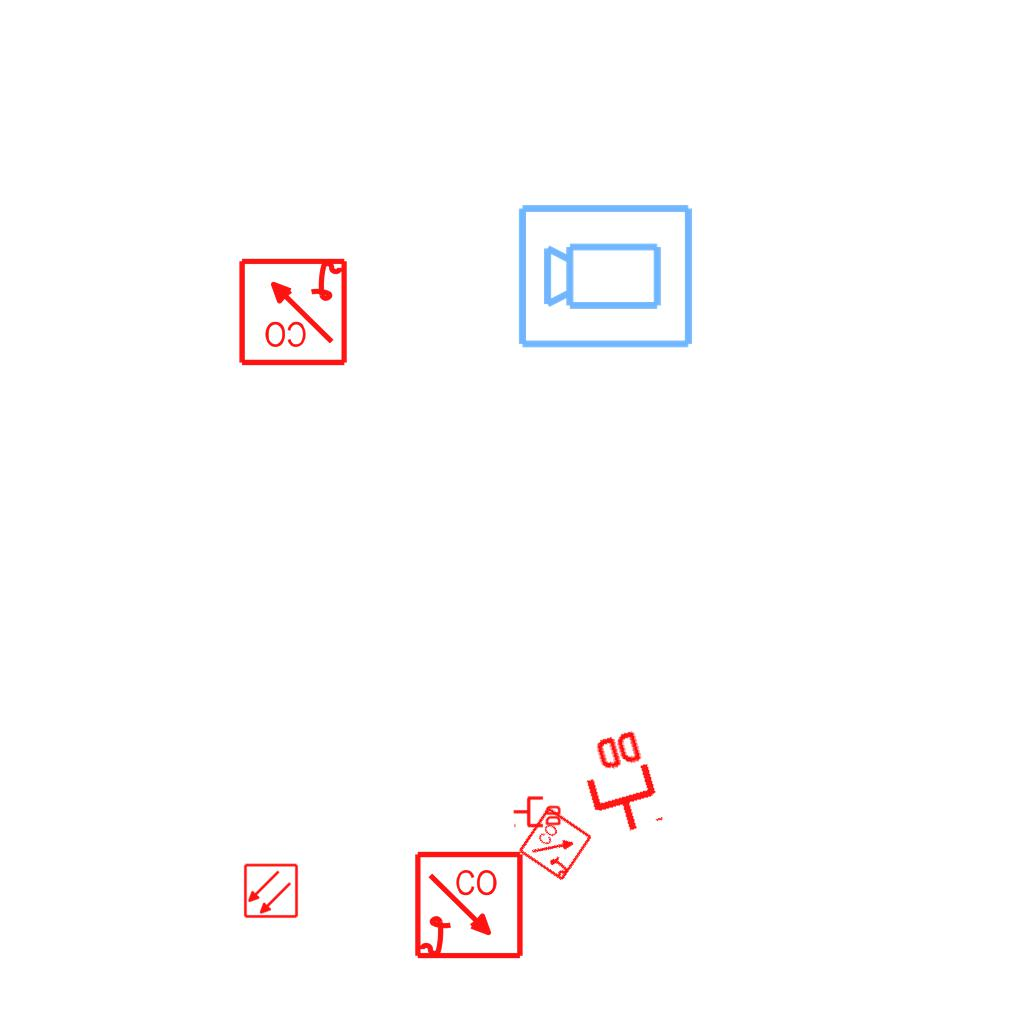Datenanschluss_zweifach: (571, 724, 666, 843), (512, 794, 563, 828)
KFO_Kamera_mit_Festobjektiv: (515, 198, 697, 352)
RMO_Rauchmelder_optischer: (243, 863, 299, 919)
ROA_Rauchmelder_optisch_mit_Signalgeber_(Sockelsirene): (236, 254, 349, 367), (413, 850, 526, 963), (517, 805, 595, 883)
